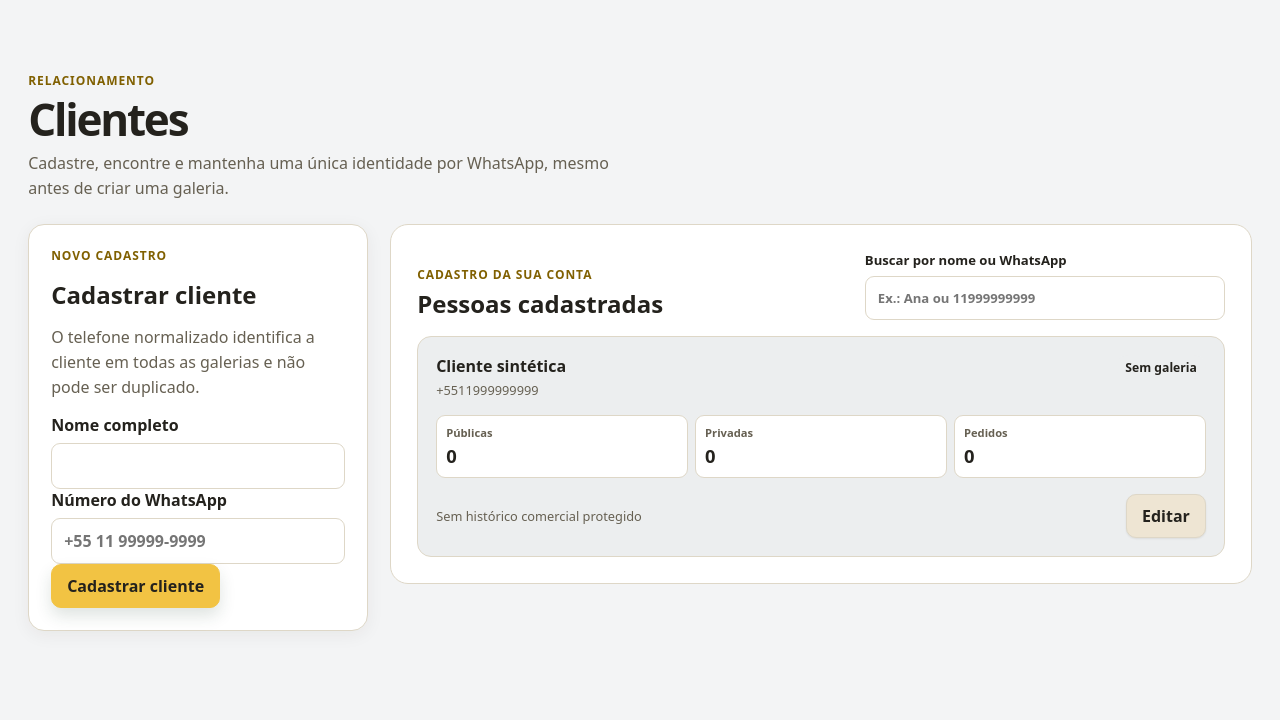
it: diretório global de clientes › confirma a exclusão já concluída e mostra a referência da limpeza pendente
Click the button "Editar". click: x=1166, y=516
box: [1126,494,1206,538]
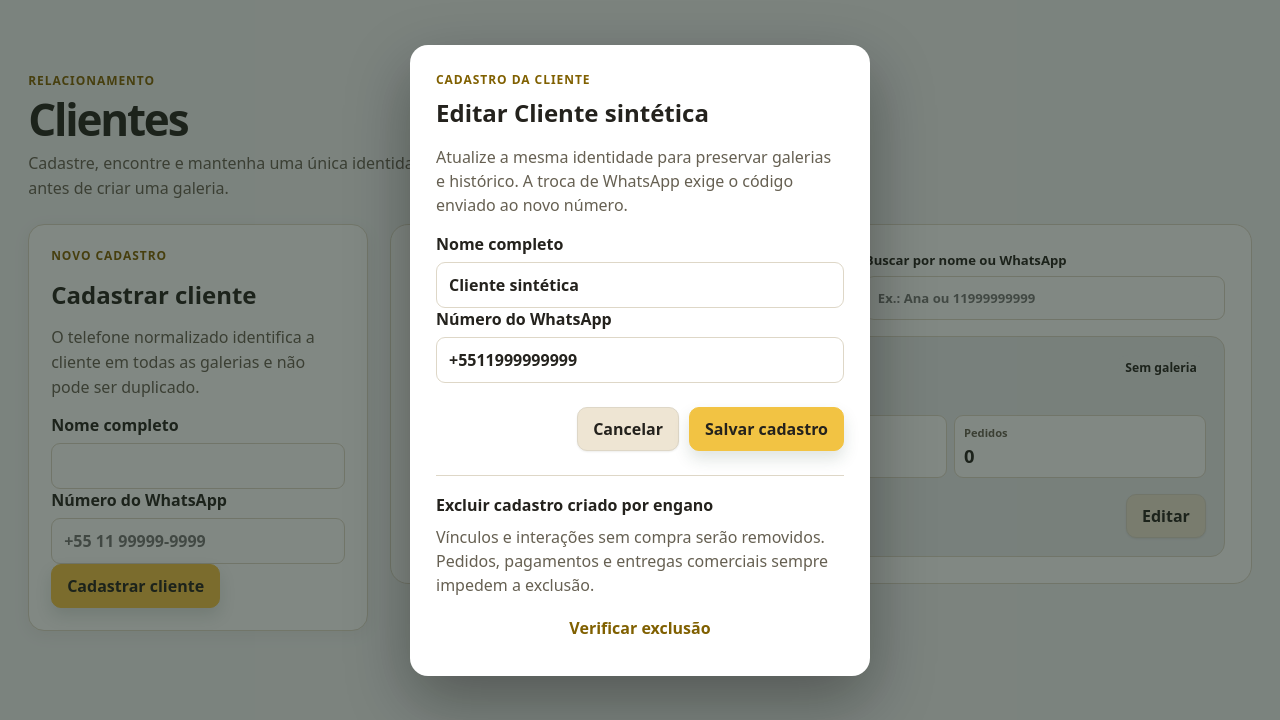
Click the button "Verificar exclusão". click: x=640, y=628
box: [436,606,844,650]
(page scrolled)
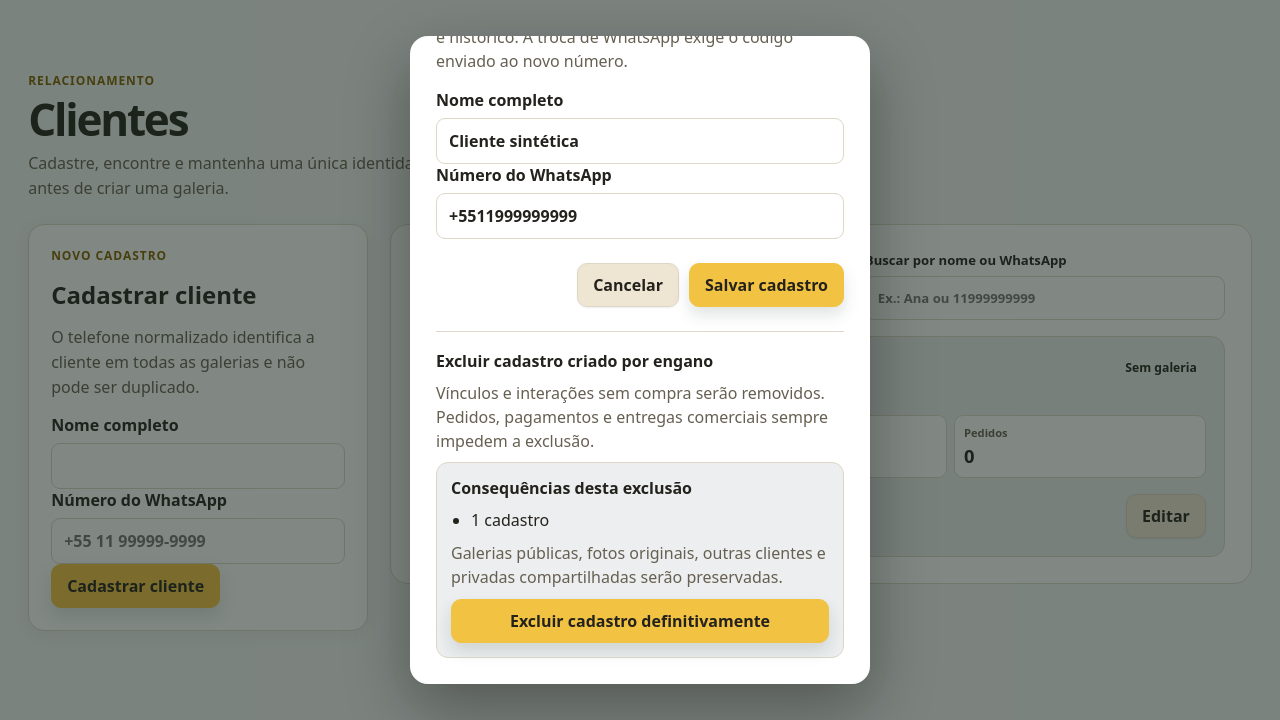
Click the button "Excluir cadastro definitivamente". click: x=640, y=621
box: [451,599,829,643]
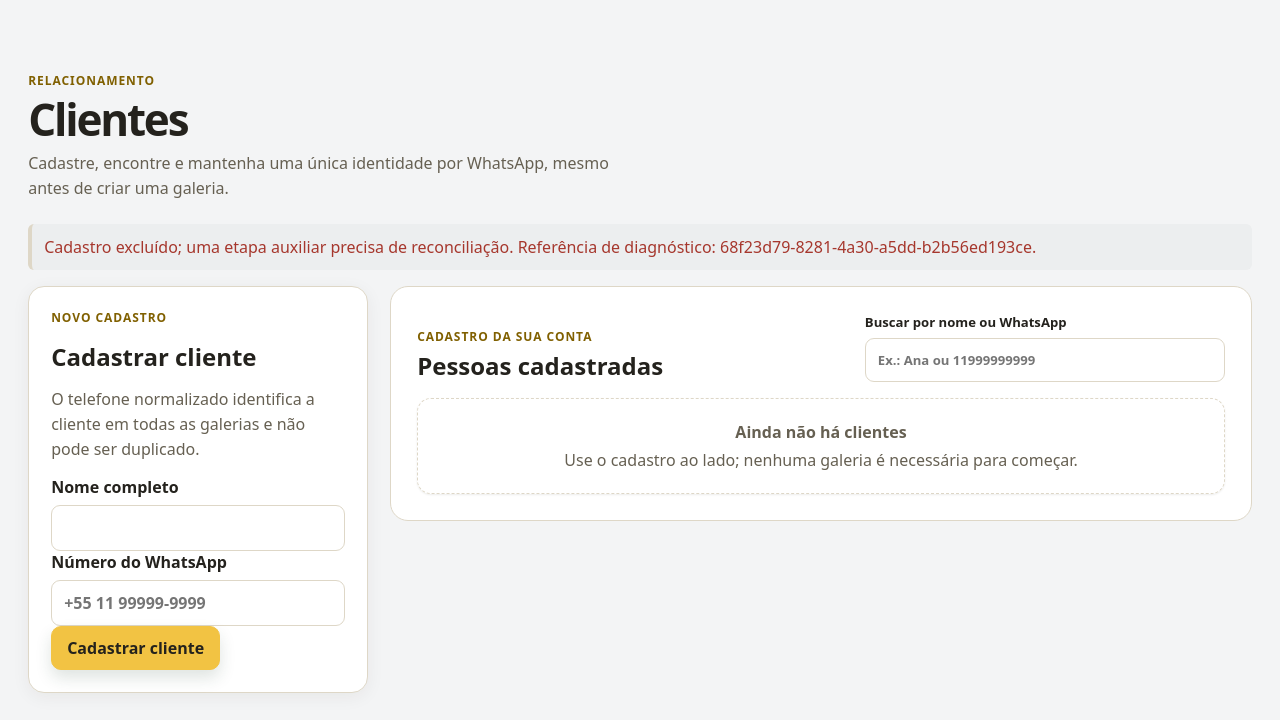
Expected: the text "Cadastro excluído; uma etapa auxiliar precisa de reconciliação" shows "68f23d79-8281-4a30-a5dd-b2b56ed193ce", [44,236,1036,258]
Expected: the text "Cliente sintética" is gone
